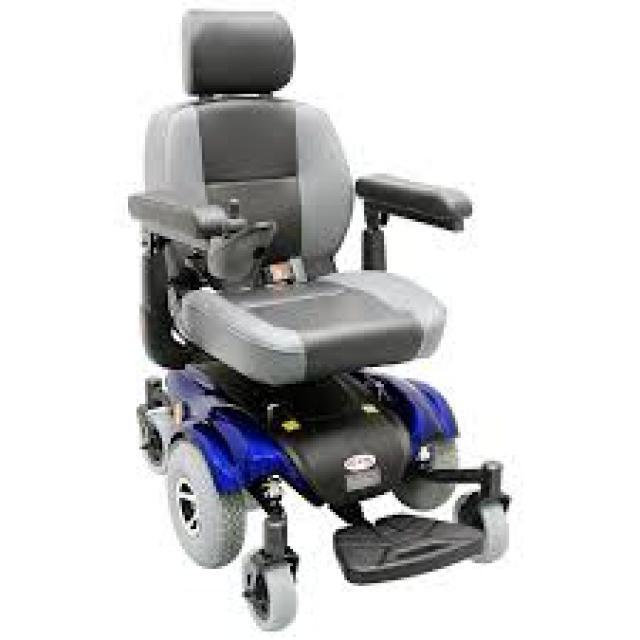wheelchair: (97, 2, 552, 638)
